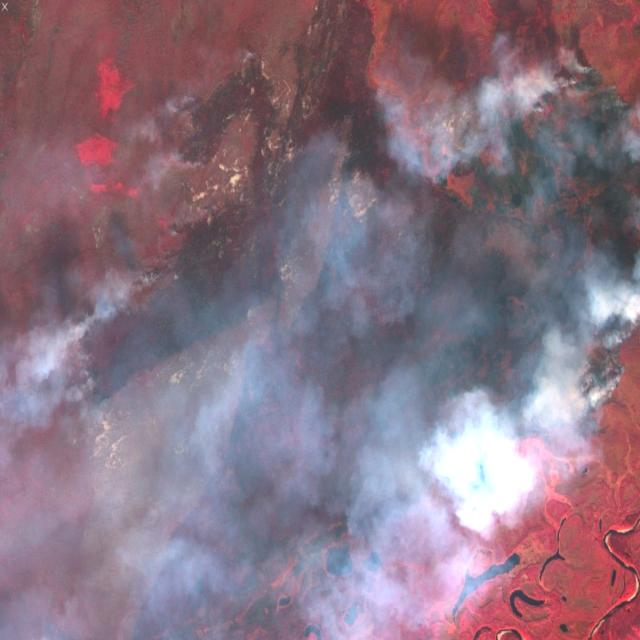fire: (75, 33, 278, 425), (468, 47, 640, 434)
